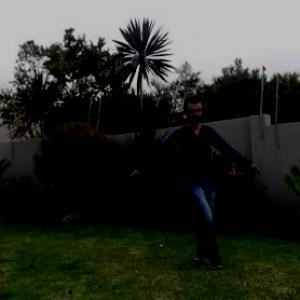land: (123, 95, 257, 259)
